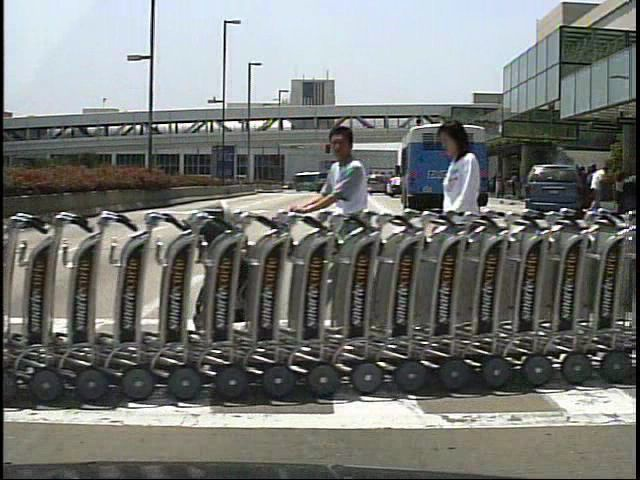person: (293, 119, 390, 361), (434, 115, 497, 333), (590, 164, 611, 214), (585, 163, 601, 215)
